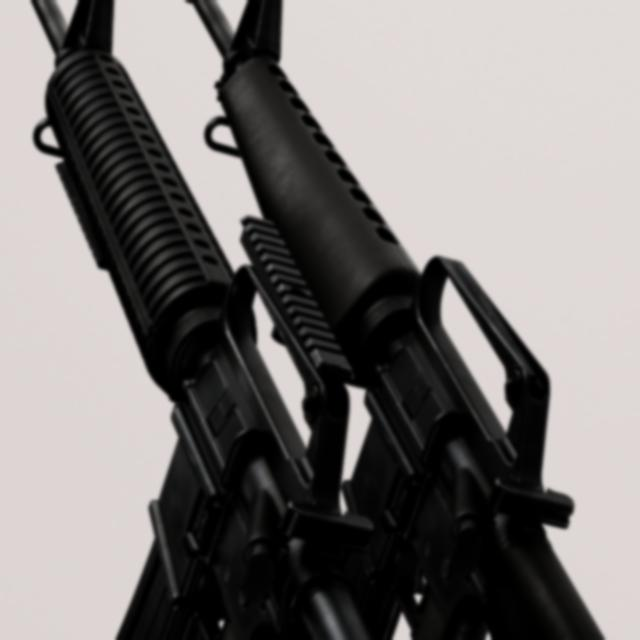m16: (196, 0, 612, 517)
